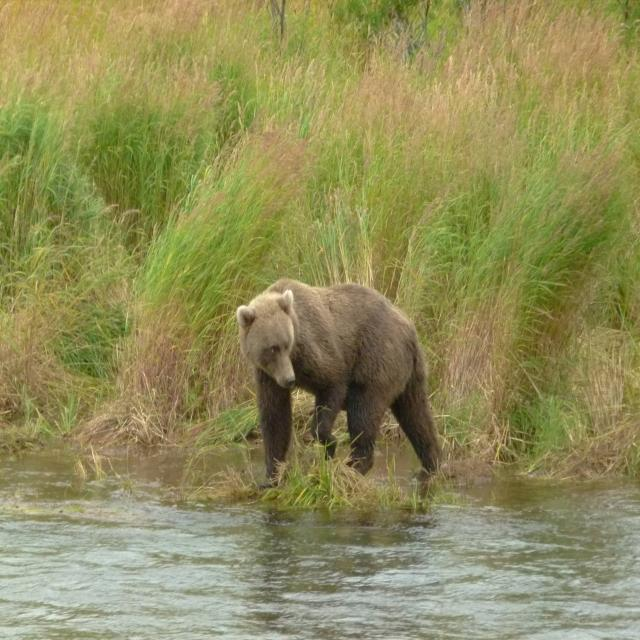bear face: (235, 278, 438, 479)
